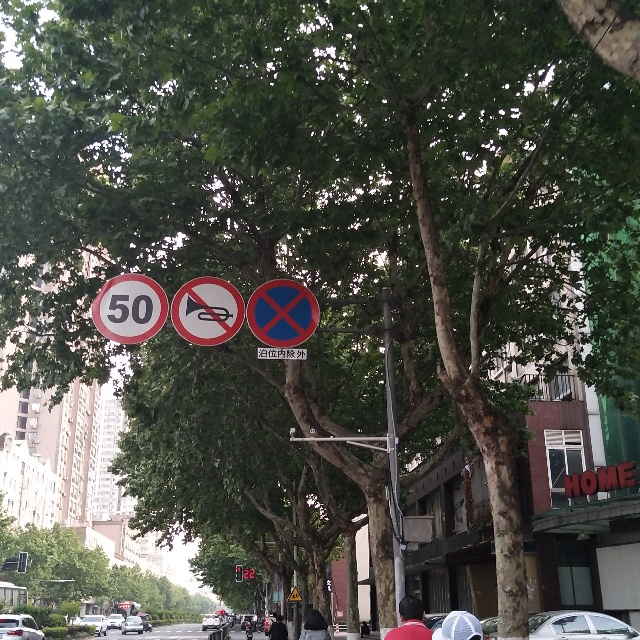nohonk: (177, 279, 241, 341)
stop: (253, 284, 316, 342)
